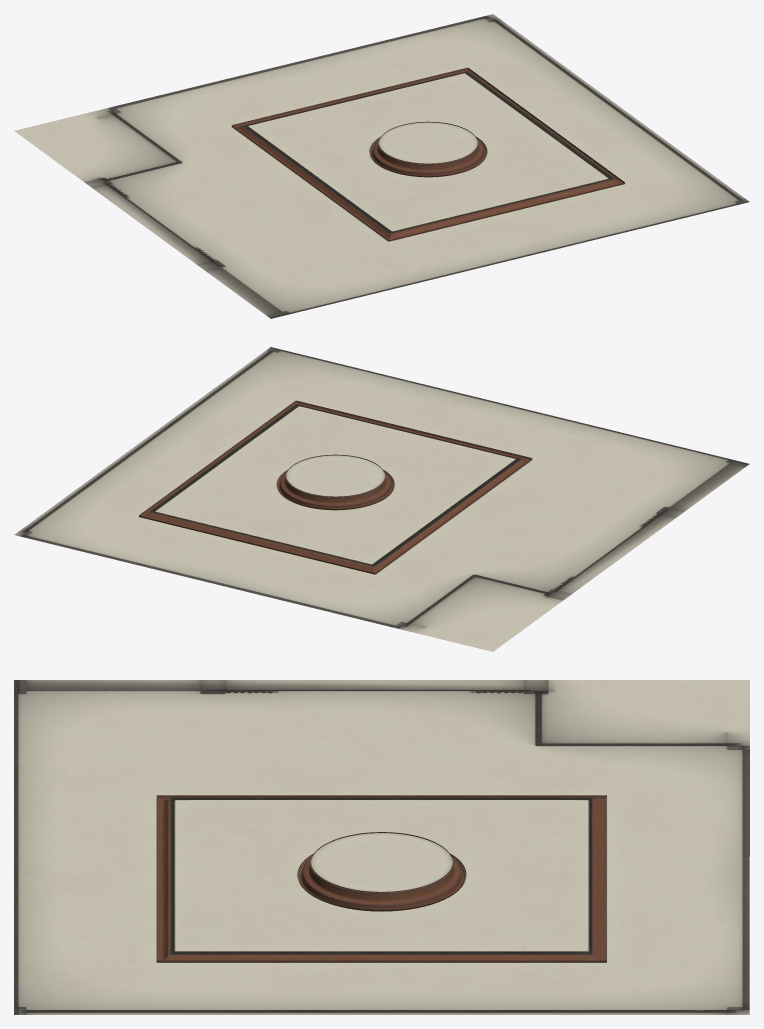
File: ChristmasRoom_Ceiling.fbx
3 views of the same model, one above another, from view 1: azimuth 30°, elevation 25°; view 2: azimuth 150°, elevation 25°; view 3: azimuth 270°, elevation 25° (orthographic). The views are drawn at different scales.
Visible parts, largest first — view 1: ChristmasRoom_Ceiling; view 2: ChristmasRoom_Ceiling; view 3: ChristmasRoom_Ceiling.
Part boxes in pixels (bbox=[...]): ChristmasRoom_Ceiling: bbox=[14, 14, 749, 318]; ChristmasRoom_Ceiling: bbox=[14, 347, 749, 651]; ChristmasRoom_Ceiling: bbox=[14, 680, 749, 1014].
Size of the model in its own units: 927 by 24.69 by 861.
